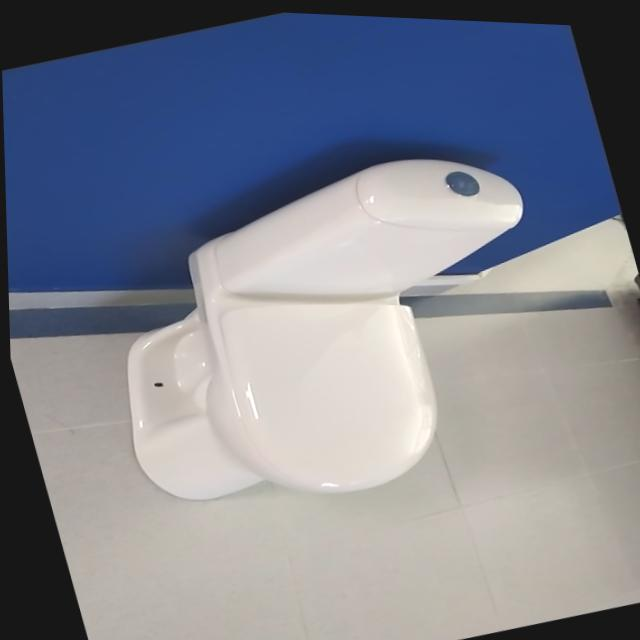toilet: (62, 108, 602, 555)
